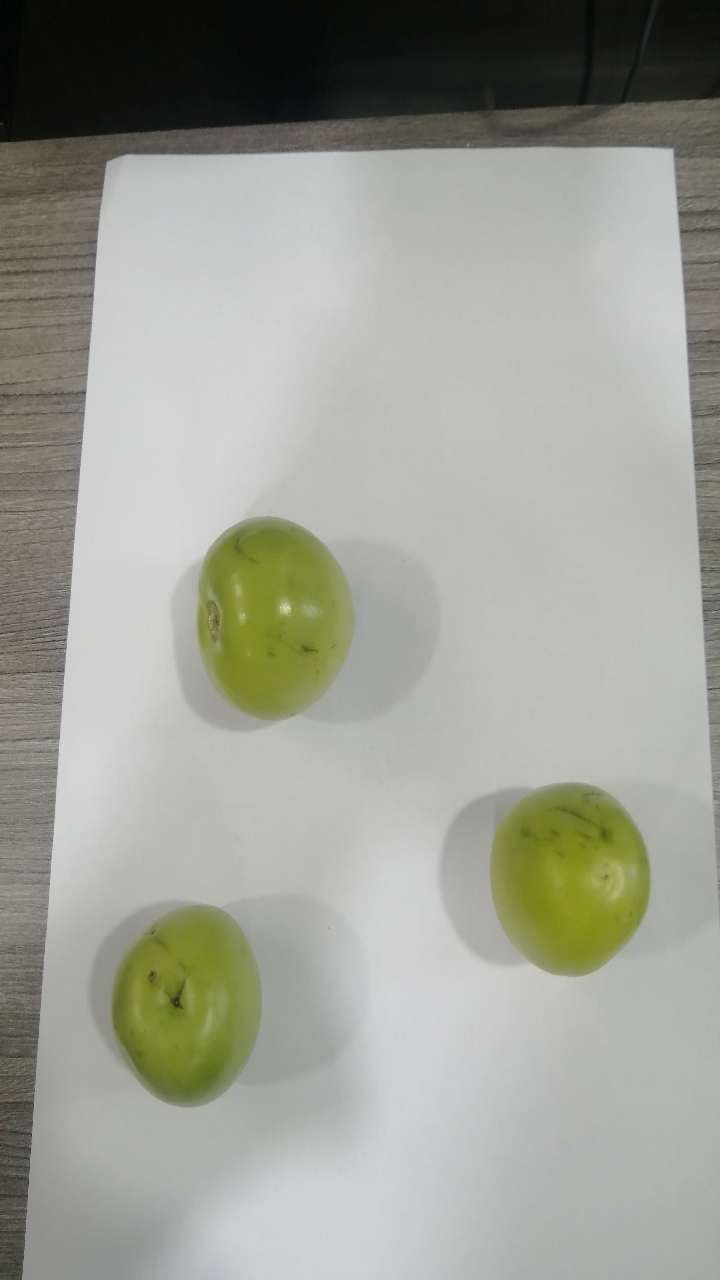tomateVerde: (163, 500, 388, 739), (469, 759, 663, 1005), (95, 886, 274, 1128)
